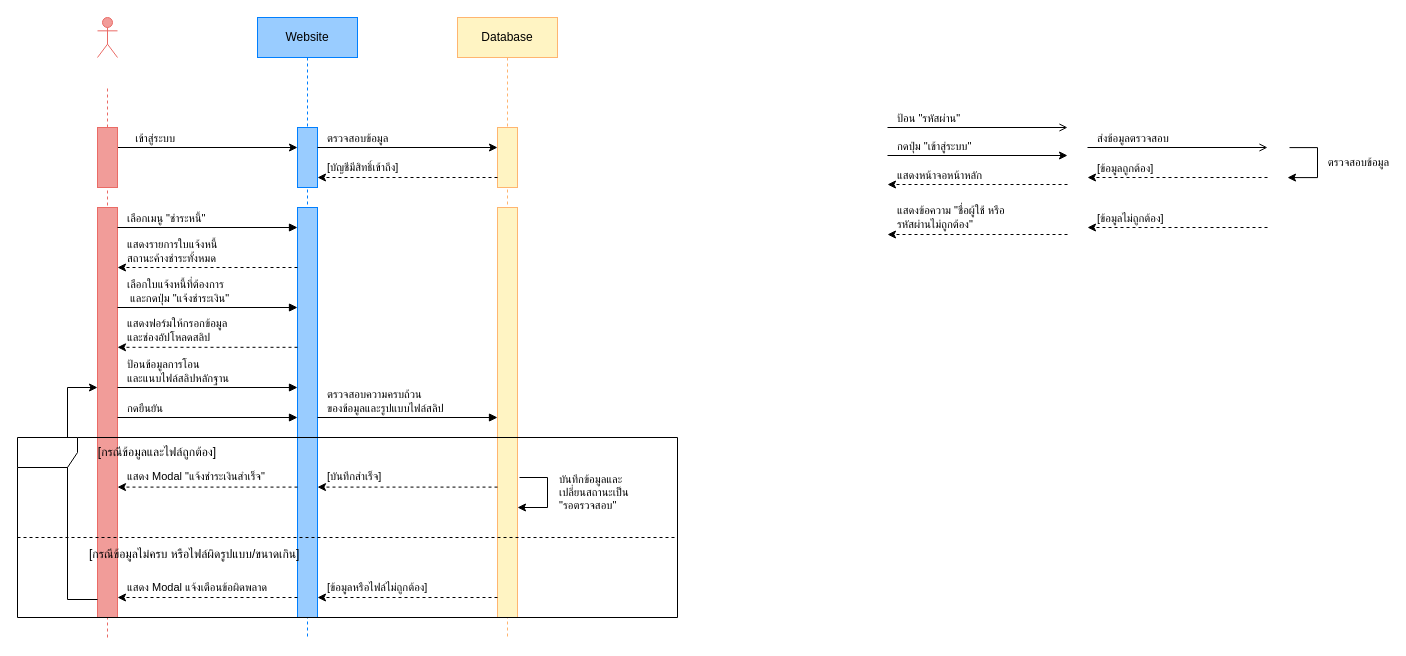
The diagram is 1406 pixels wide and 656 high, and some of its shapes have lost their labels. Each missing label, with the box of its shape:
alt: (16, 436, 678, 618)
ผู้เช่า: (96, 16, 118, 58)
